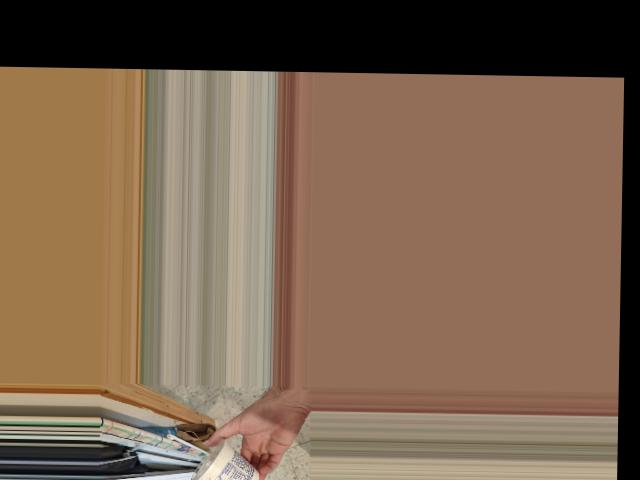cotage: (188, 439, 262, 480)
